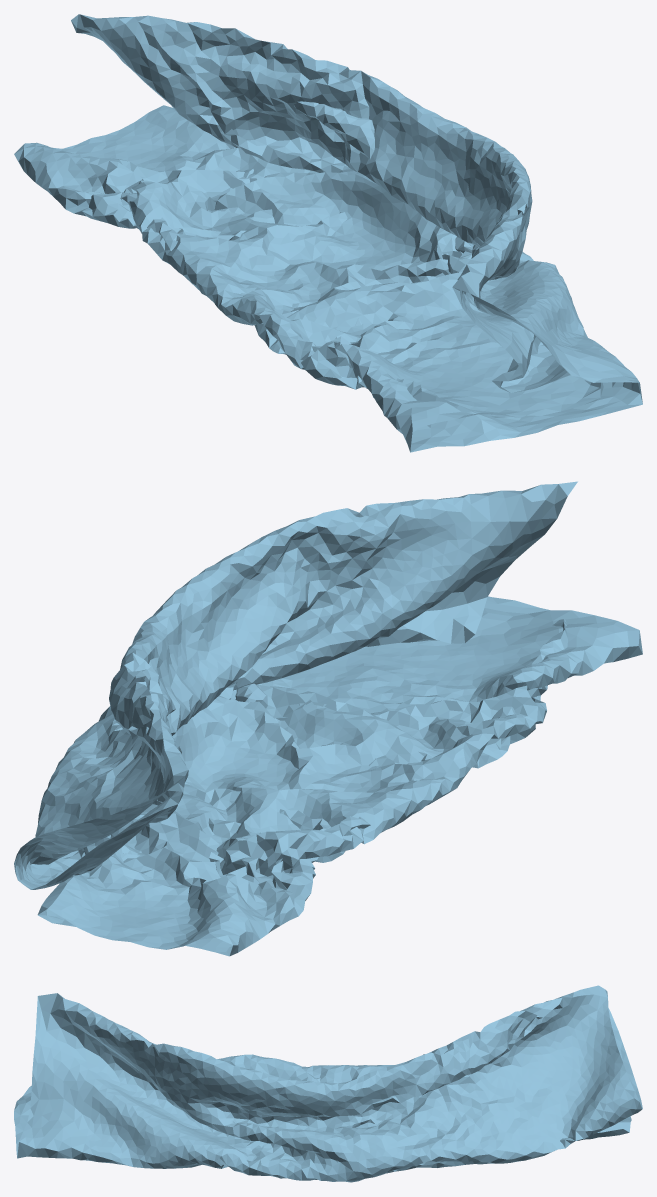
Rendered from frame_18.glb.
3 views of the same model, one above another, from view 1: azimuth 30°, elevation 25°; view 2: azimuth 150°, elevation 25°; view 3: azimuth 270°, elevation 25° (orthographic). The views are drawn at different scales.
Parts seen in each view (by area): view 1: frame_18.obj; view 2: frame_18.obj; view 3: frame_18.obj.
Part boxes in pixels (bbox=[...]): frame_18.obj: bbox=[14, 14, 642, 452]; frame_18.obj: bbox=[14, 481, 642, 956]; frame_18.obj: bbox=[14, 985, 642, 1182].
Bounding box in the file's own units: 0.7294 × 0.3759 × 1.77.
